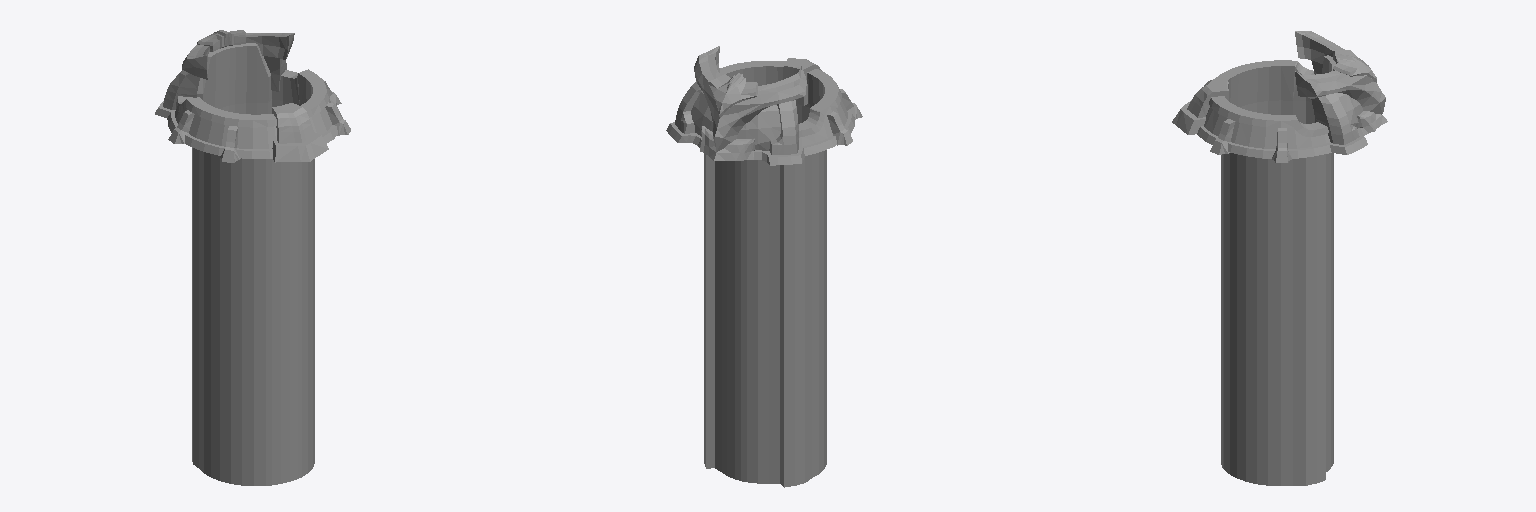
Rendered from chaos_inhibitor_rubble.obj.
The picture shows the model from 3 angles: view 1: azimuth 30°, elevation 25°; view 2: azimuth 150°, elevation 25°; view 3: azimuth 270°, elevation 25°; orthographic projection.
Visible parts, largest first — view 1: lolMesh_sruap_chaosinhibitor_rubble; view 2: lolMesh_sruap_chaosinhibitor_rubble; view 3: lolMesh_sruap_chaosinhibitor_rubble.
Part boxes in pixels (x1,y1,x2,y2): lolMesh_sruap_chaosinhibitor_rubble: (155,30,350,485); lolMesh_sruap_chaosinhibitor_rubble: (666,46,862,487); lolMesh_sruap_chaosinhibitor_rubble: (1172,31,1387,485).
Bounding box in the file's own units: 4.07 × 9.55 × 4.57.